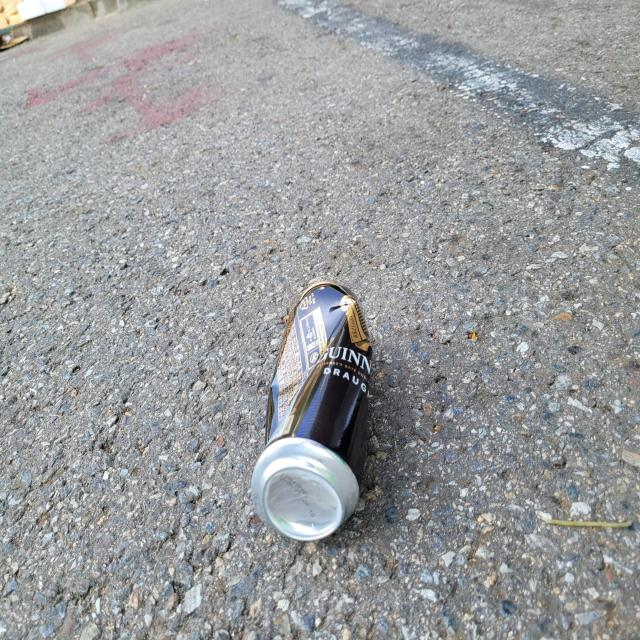can: (251, 280, 372, 541)
